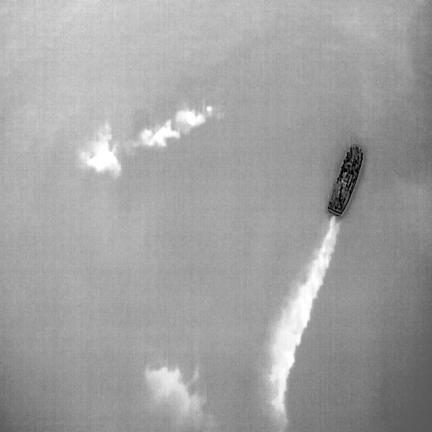flukeprints: (80, 125, 120, 176), (133, 120, 180, 146), (176, 110, 209, 127), (207, 106, 211, 112)
